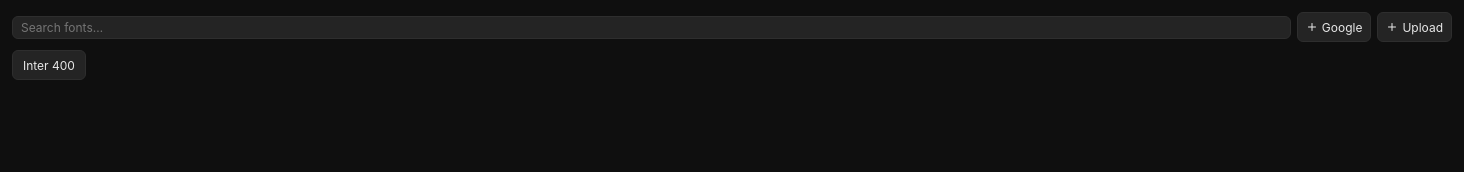
it: fontSelector component › shows no-match message when search yields no results
The width and height of the screenshot is (1464, 172).
Type "xyz" into the field with test id "font-selector-search" at (651, 27), box [12,16,1291,38]
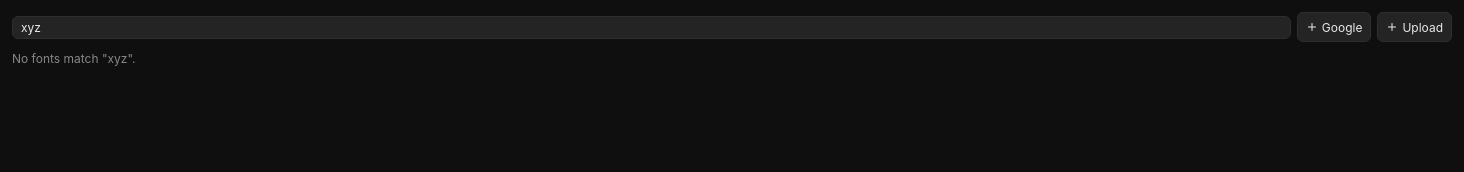
Expected: the text "No fonts match \"xyz\"." is shown, [12,51,136,66]
